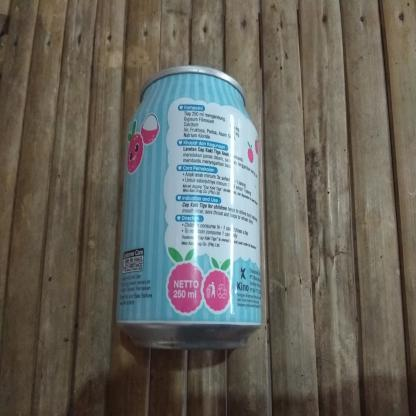mouse: (107, 56, 267, 364)
